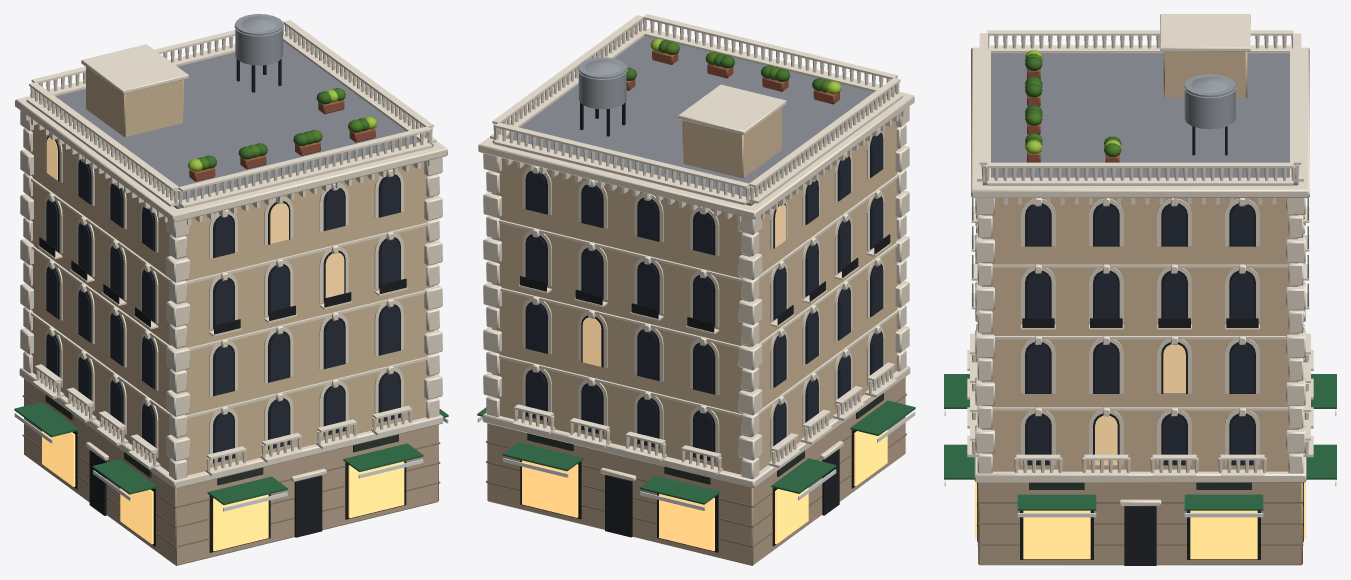
Rendered from building_it_a.fbx.
The picture shows the model from 3 angles, left to right: view 1: azimuth 30°, elevation 25°; view 2: azimuth 150°, elevation 25°; view 3: azimuth 270°, elevation 25°; orthographic projection. The views are drawn at different scales.
Parts seen in each view (by area): view 1: building_it_a; view 2: building_it_a; view 3: building_it_a.
Part boxes in pixels (left/top/right/bottom): building_it_a: left=14, top=14, right=448, bottom=565; building_it_a: left=477, top=14, right=915, bottom=565; building_it_a: left=944, top=14, right=1336, bottom=565.
Size of the model in its own units: 16.94 by 21.3 by 16.94.
